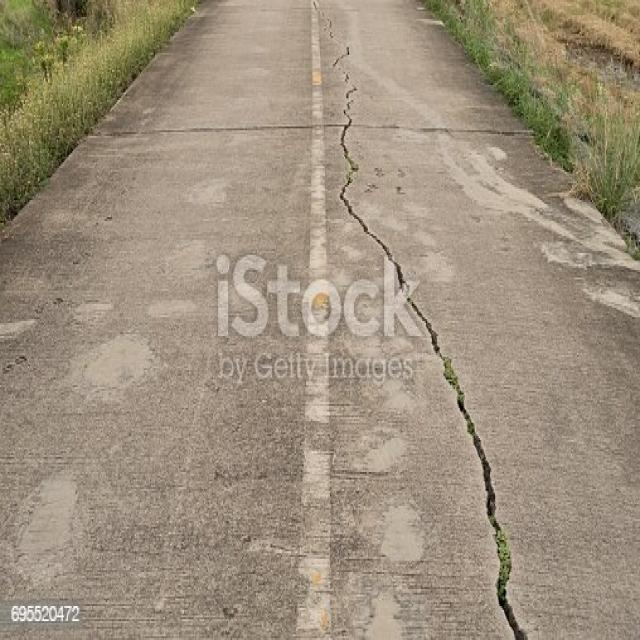Pothole: (422, 323, 591, 640), (314, 2, 402, 259)
